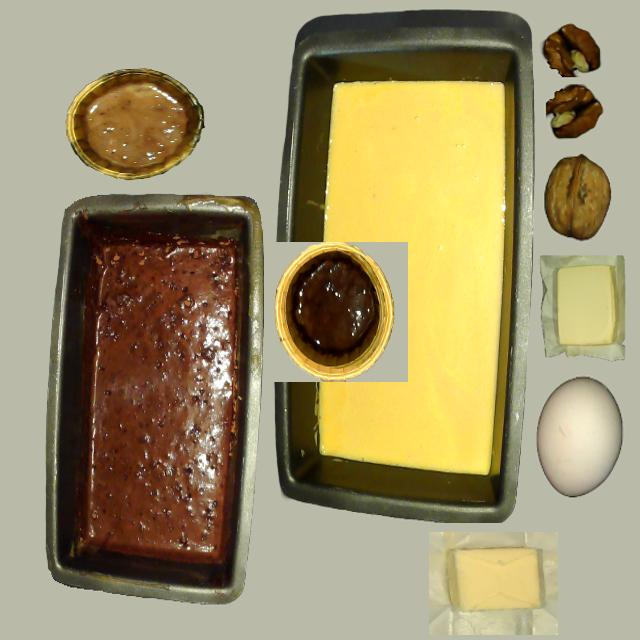Walnut: (544, 154, 611, 238)
